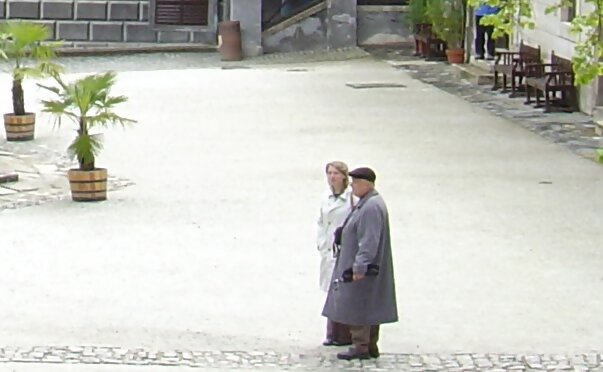person: (336, 166, 401, 362), (316, 158, 357, 344)
